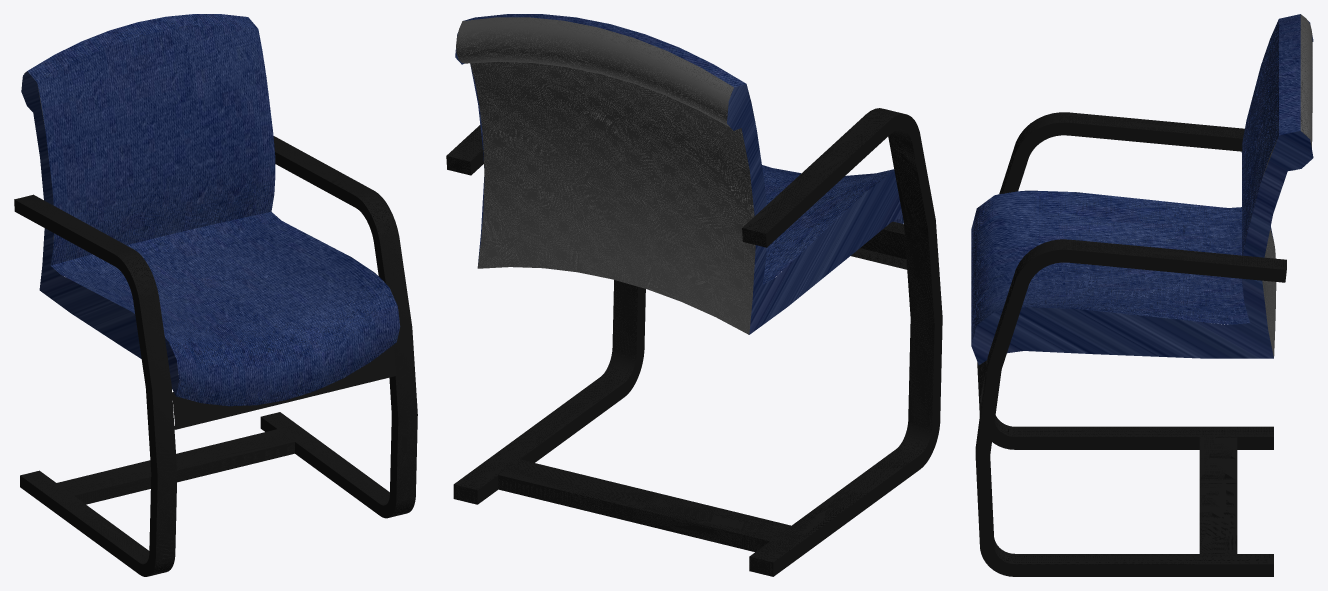
The model's file is chair2.obj.
3 views of the same model, side by side, from view 1: azimuth 30°, elevation 25°; view 2: azimuth 150°, elevation 25°; view 3: azimuth 270°, elevation 25° (orthographic). The views are drawn at different scales.
Parts seen in each view (by area): view 1: Chair2_2, Chair2_1; view 2: Chair2_3, Chair2_1, Chair2_2; view 3: Chair2_2, Chair2_1, Chair2_3.
Part boxes in pixels (x1,y1,x2,y2): Chair2_2: (21,14,400,406); Chair2_1: (14,136,417,576); Chair2_3: (456,17,755,334); Chair2_1: (446,108,942,576); Chair2_2: (455,14,903,334); Chair2_2: (971,14,1313,365); Chair2_1: (975,112,1286,576); Chair2_3: (1262,14,1312,357).
Bounding box in the file's own units: 57.87 × 90.21 × 60.88.
Materials: 3 (1 with a texture image).
